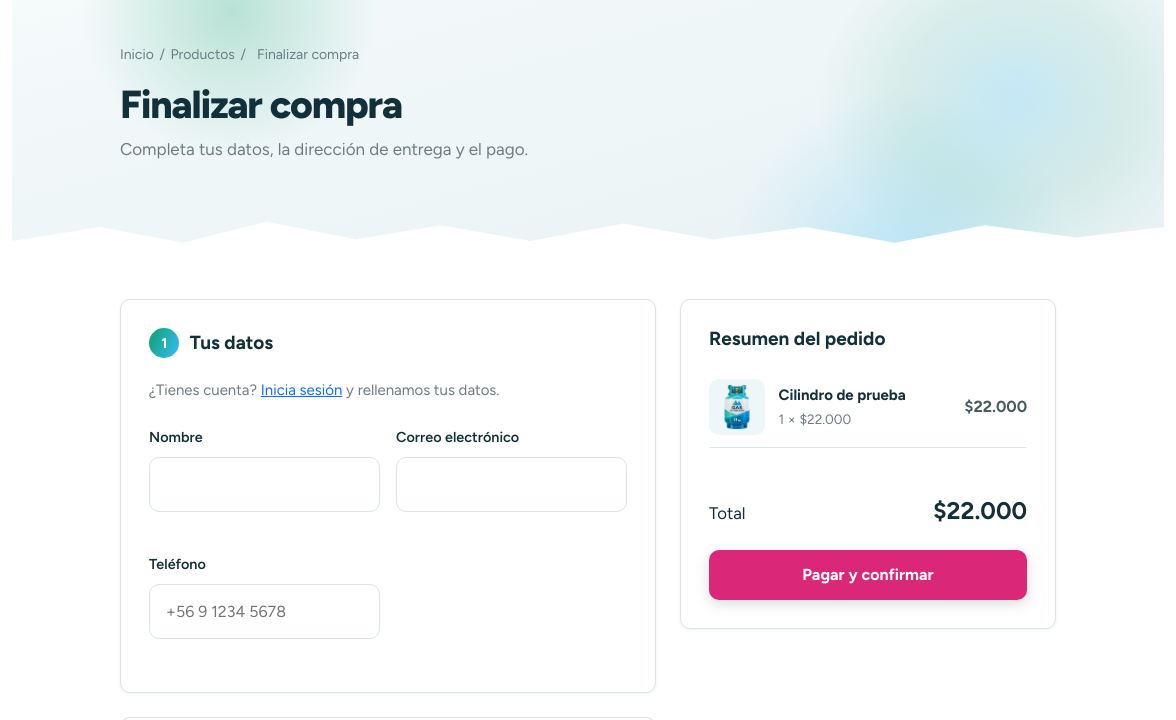
Test: Checkout: pago y registro de la boleta › valida el formulario y la tarjeta antes de enviar nada
Expected: the text "Cilindro de prueba" is shown, [779, 386, 906, 404]
Click the button "Pagar y confirmar".
click(868, 575)  # box [709, 550, 1027, 600]
(page scrolled)
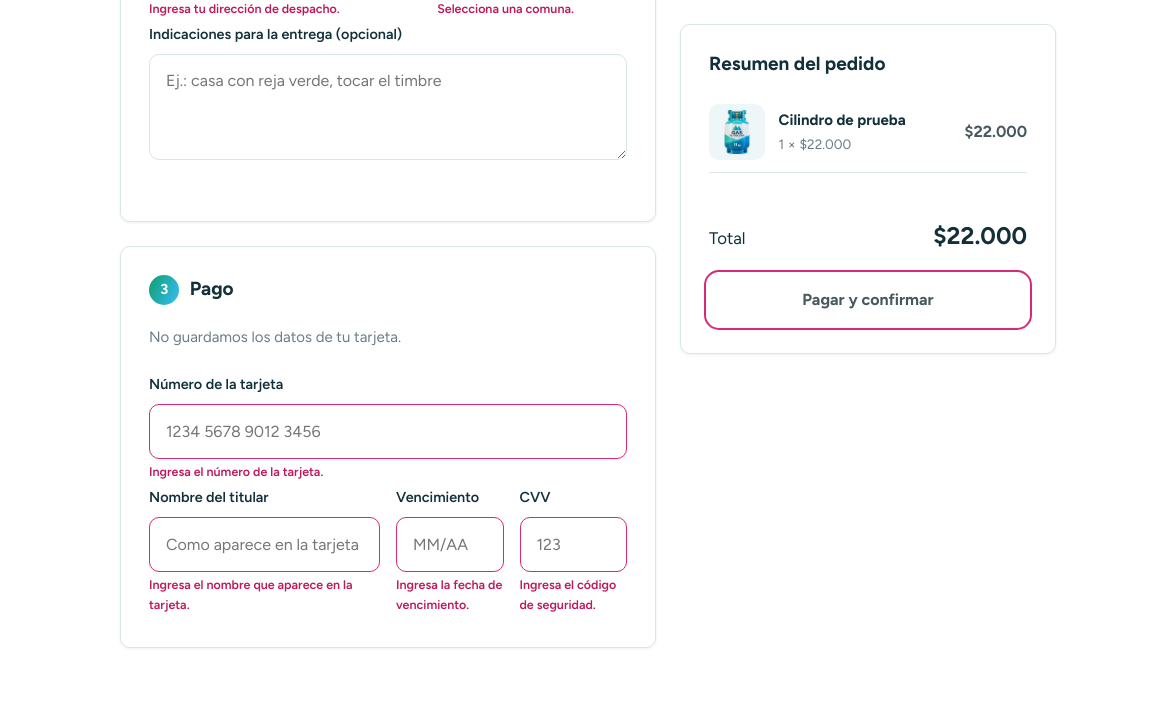
Now the text "Ingresa el número de la tarjeta." is shown, box [149, 464, 323, 479]
